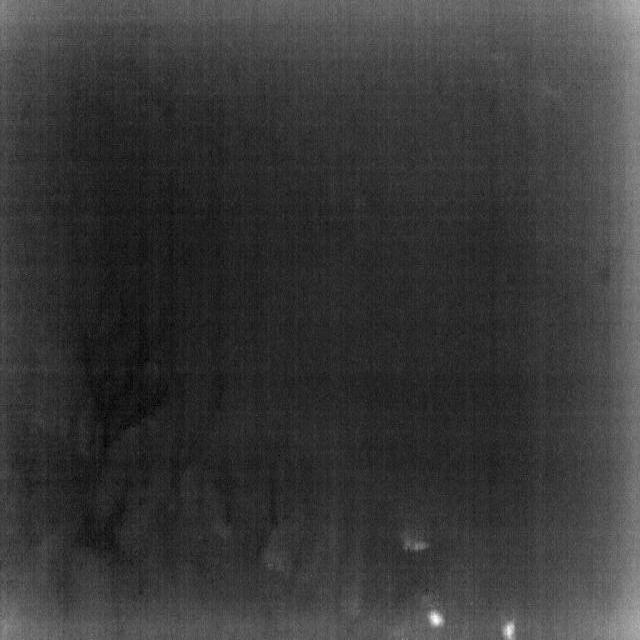deer: (397, 532, 430, 554), (428, 610, 445, 629), (502, 618, 516, 640)
